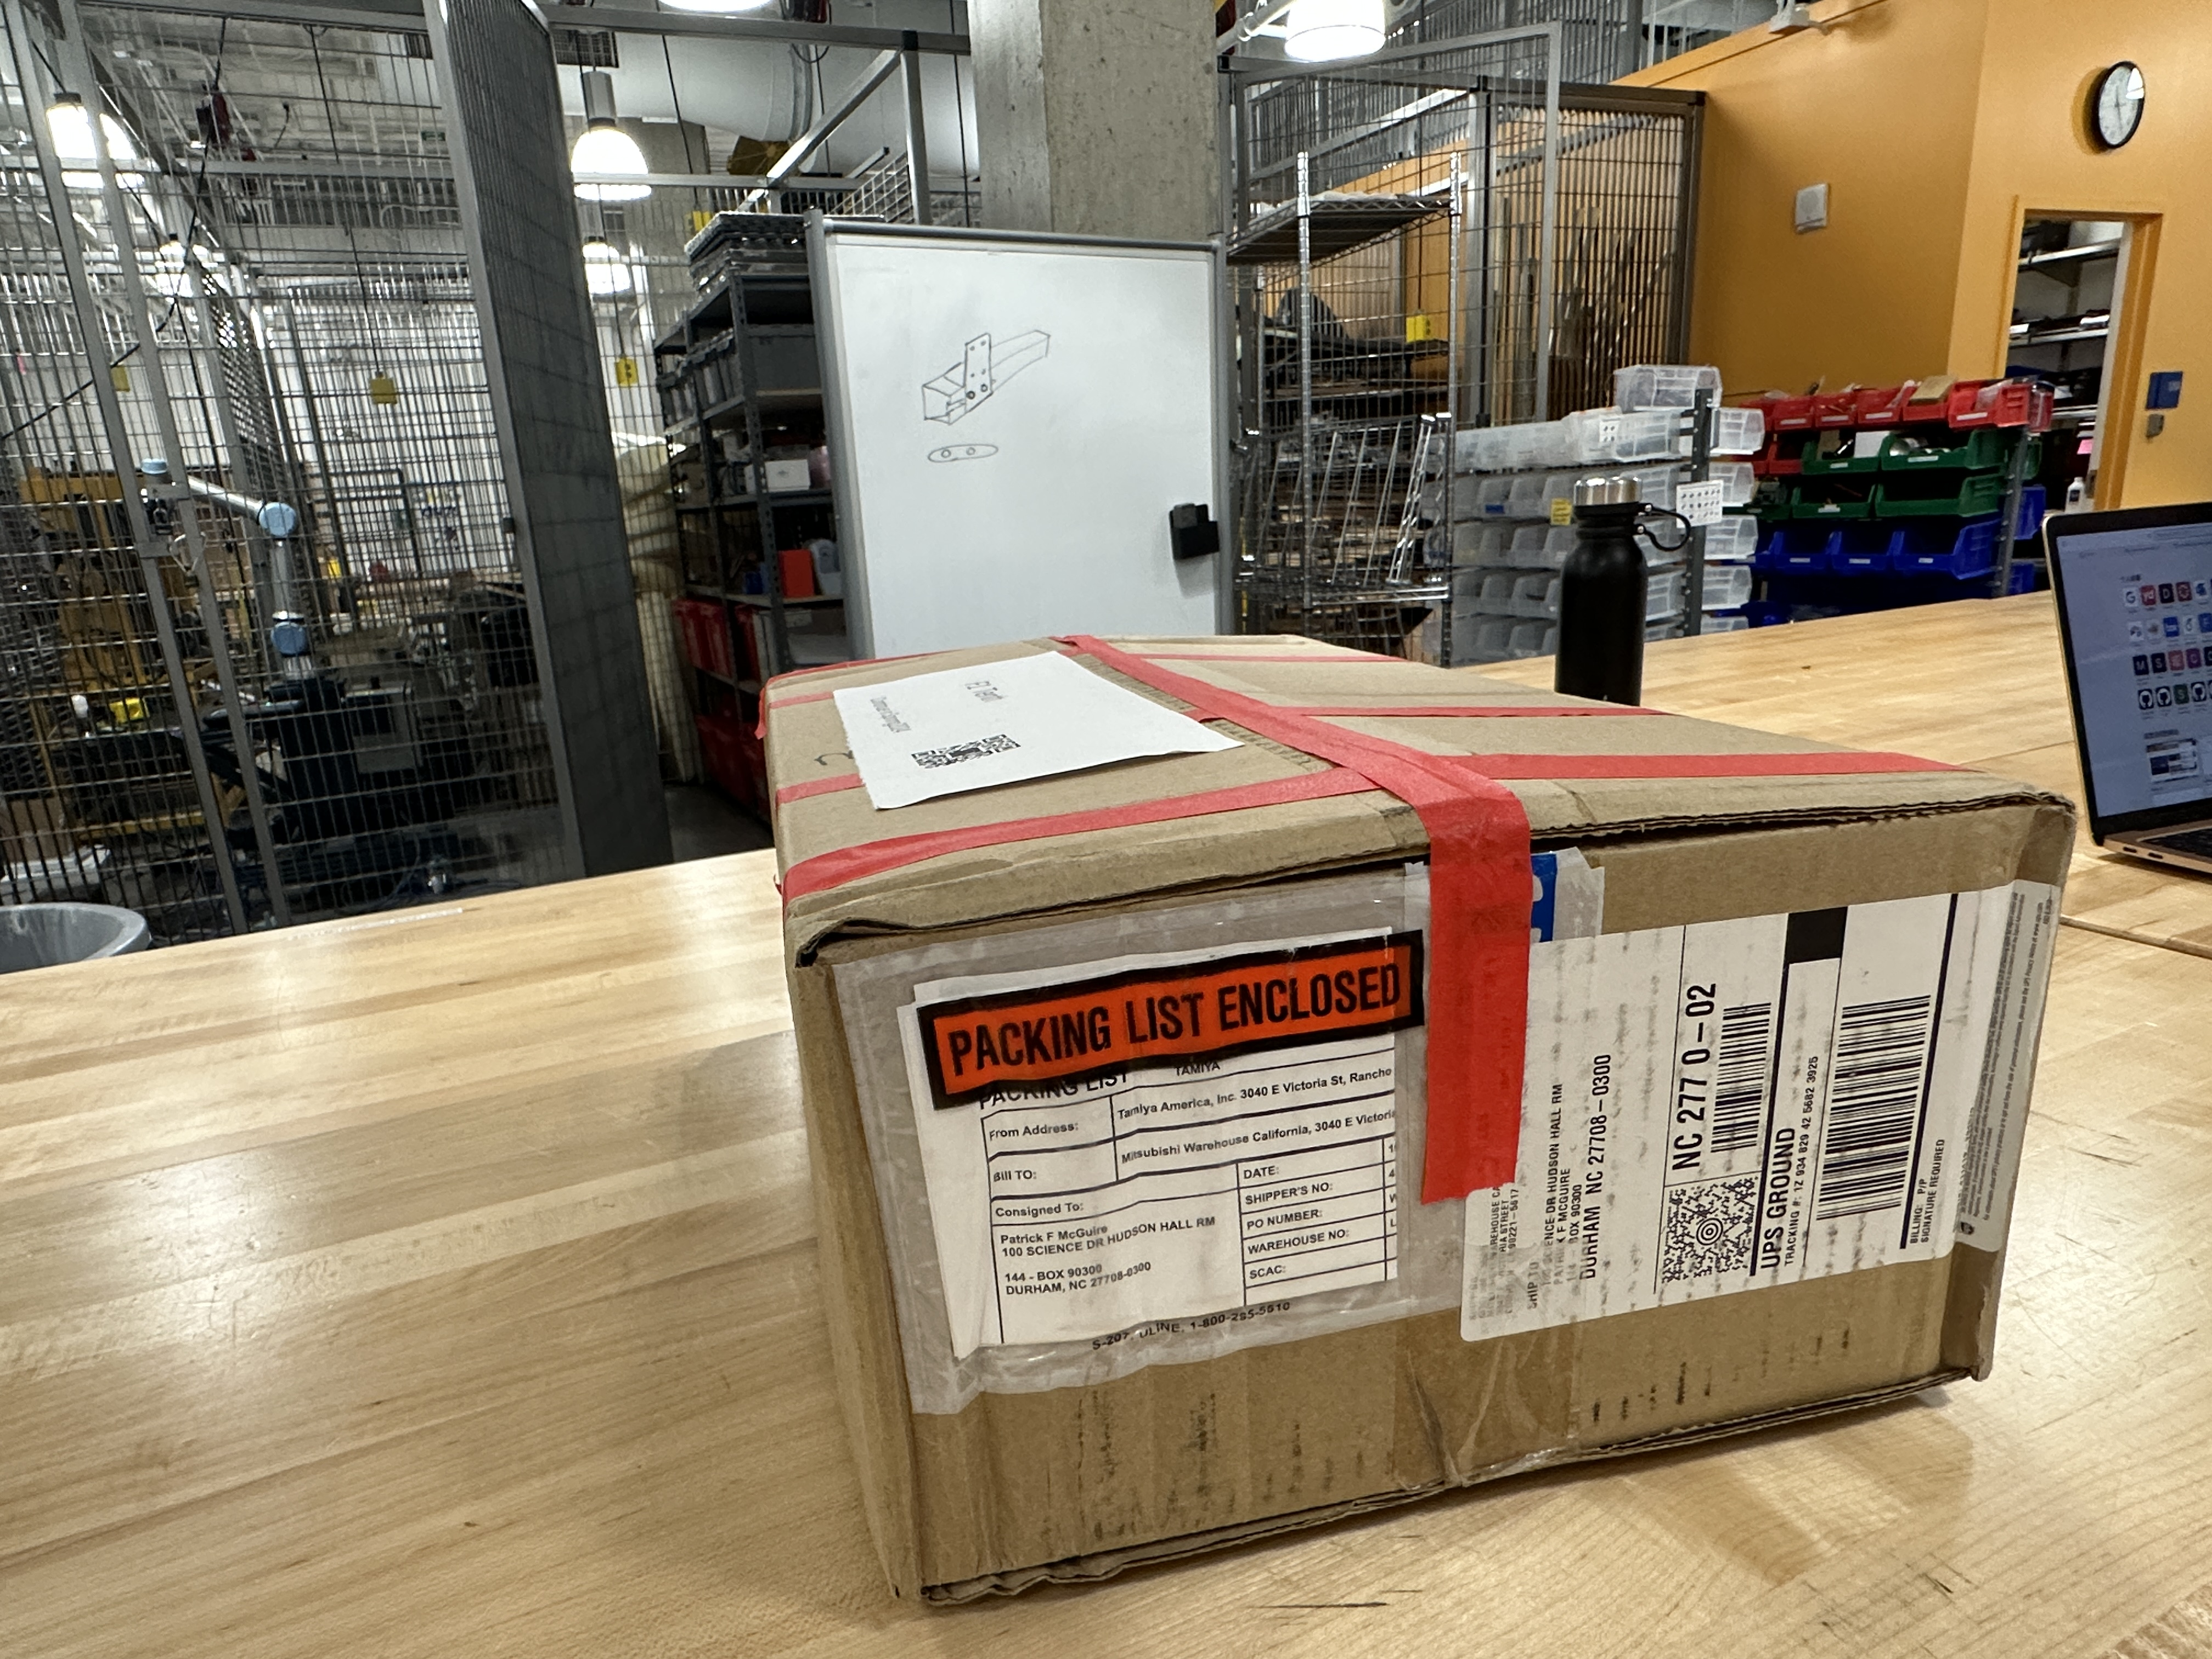Box_Obstacle: (742, 620, 2097, 1631)
